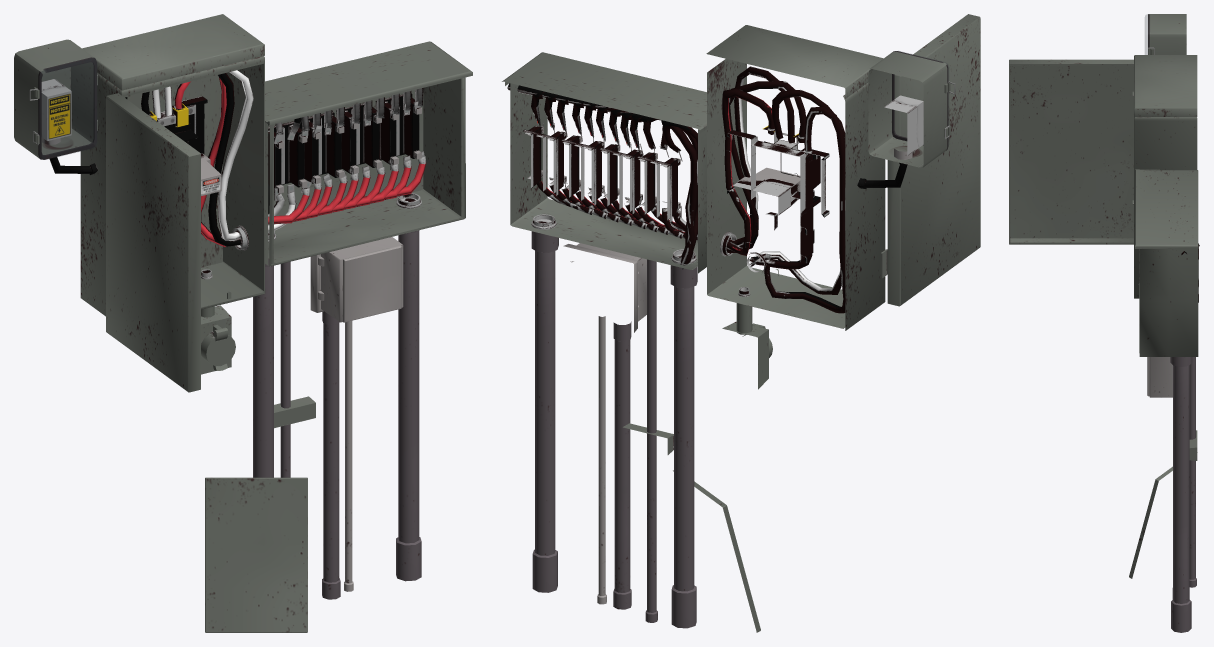
File: Disjoncteur_résistances.glb
3 views of the same model, side by side, from view 1: azimuth 30°, elevation 25°; view 2: azimuth 150°, elevation 25°; view 3: azimuth 270°, elevation 25° (orthographic). The views are drawn at different scales.
Parts seen in each view (by area): view 1: UnicueTexture_tile_0, UnicueTexture_custom_0, UnicueTexture_Glass_0, UnicueTexture_custom_0.002, UnicueTexture_custom_0.001, UnicueTexture_custom_0.018; view 2: UnicueTexture_tile_0, UnicueTexture_custom_0, UnicueTexture_custom_0.001, UnicueTexture_custom_0.002, UnicueTexture_custom_0.018; view 3: UnicueTexture_tile_0, UnicueTexture_custom_0.
Part boxes in pixels (x1=…): UnicueTexture_tile_0: x1=14, y1=14, x2=472, y2=632; UnicueTexture_custom_0: x1=41, y1=70, x2=424, y2=428; UnicueTexture_Glass_0: x1=39, y1=58, x2=97, y2=159; UnicueTexture_custom_0.002: x1=375, y1=93, x2=421, y2=164; UnicueTexture_custom_0.001: x1=336, y1=104, x2=381, y2=173; UnicueTexture_custom_0.018: x1=299, y1=111, x2=344, y2=183; UnicueTexture_tile_0: x1=502, y1=14, x2=980, y2=632; UnicueTexture_custom_0: x1=507, y1=66, x2=923, y2=454; UnicueTexture_custom_0.001: x1=560, y1=135, x2=604, y2=205; UnicueTexture_custom_0.002: x1=523, y1=126, x2=566, y2=196; UnicueTexture_custom_0.018: x1=599, y1=144, x2=642, y2=214; UnicueTexture_tile_0: x1=1009, y1=14, x2=1198, y2=632; UnicueTexture_custom_0: x1=1132, y1=91, x2=1199, y2=460.
Size of the model in its own units: 0.909 by 1.23 by 0.453.
Materials: 3 (3 with a texture image).
